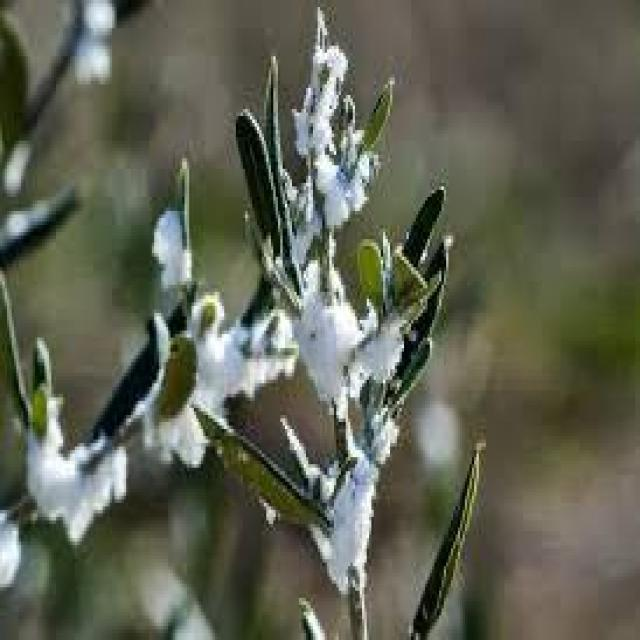Psyllid: (23, 342, 124, 542), (292, 45, 374, 228), (296, 267, 402, 401), (194, 292, 297, 418), (142, 330, 205, 464), (324, 457, 364, 587), (161, 211, 189, 285)
